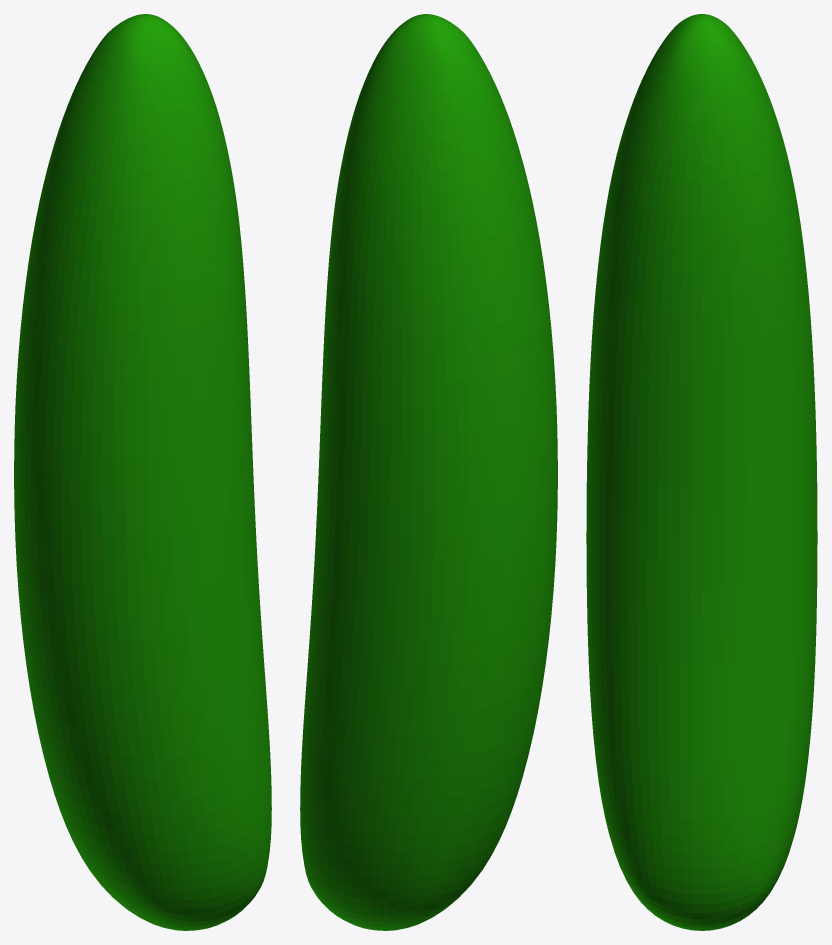
File: Cucumber.fbx
3 renders of one model, left to right at view 1: azimuth 30°, elevation 25°; view 2: azimuth 150°, elevation 25°; view 3: azimuth 270°, elevation 25°, orthographic. The views are drawn at different scales.
Parts seen in each view (by area): view 1: Cube; view 2: Cube; view 3: Cube.
Boxes of the visible parts, x1,y1,x2,y2 form: Cube: (14,14,271,930); Cube: (300,14,557,930); Cube: (586,14,817,930).
Bounding box in the file's own units: 173 × 674 × 159.
